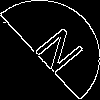N: (25, 25, 86, 82)
